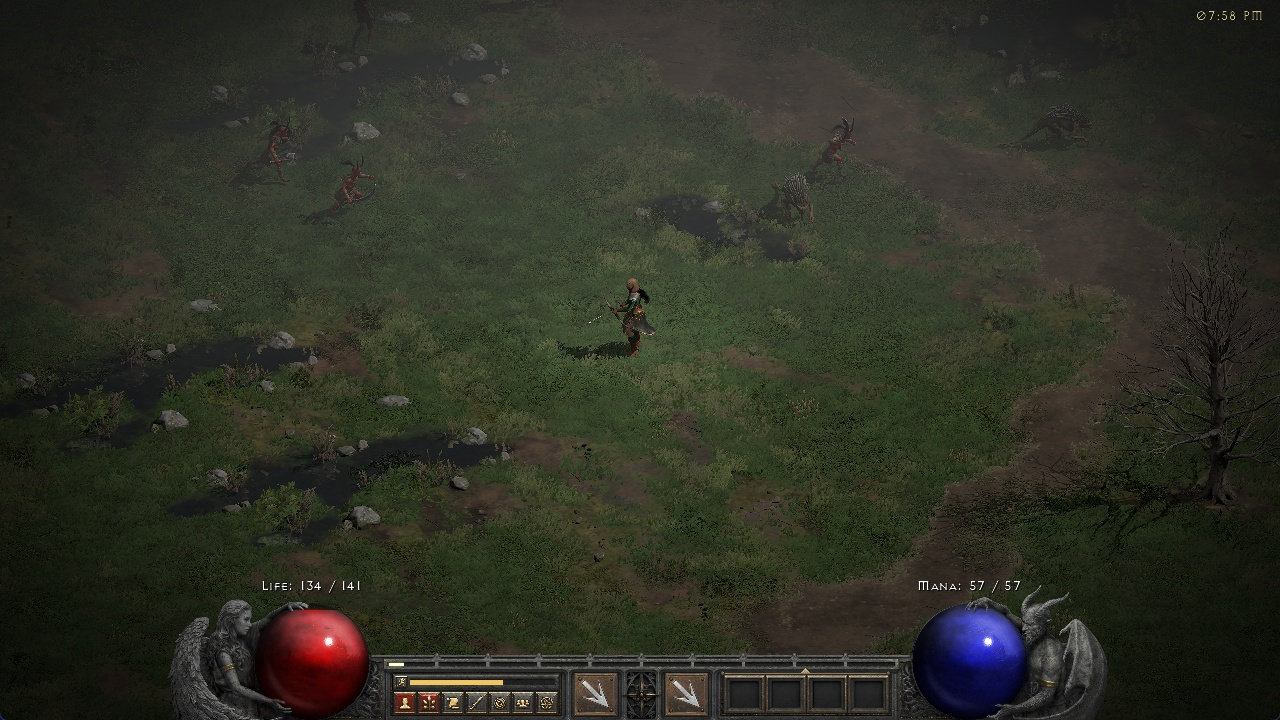fallen: (807, 118, 859, 181), (327, 156, 373, 217), (260, 114, 296, 185)
